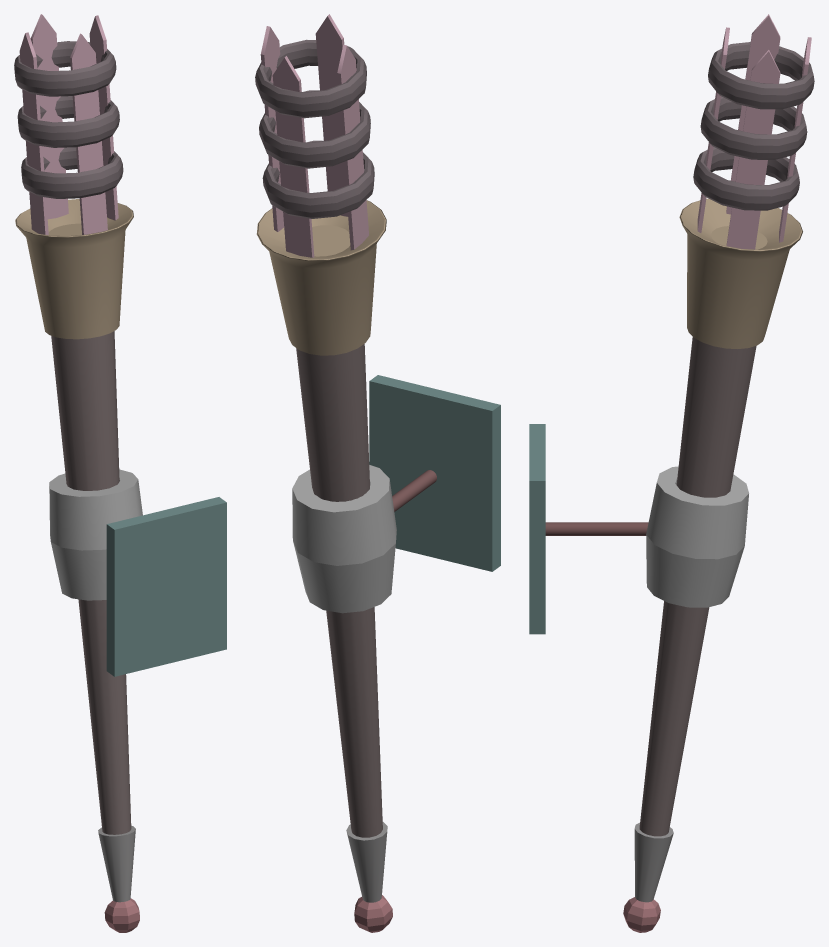
File: TorchUVFBX.fbx
The picture shows the model from 3 angles, left to right: view 1: azimuth 30°, elevation 25°; view 2: azimuth 150°, elevation 25°; view 3: azimuth 270°, elevation 25°; orthographic projection. The views are drawn at different scales.
Parts seen in each view (by area): view 1: pCube5, pCylinder1, pCylinder4, pTorus4, pTorus1, pTorus2, pTorus3, pCube1, pCube2, pCube3, pCylinder3, pCube4 (+1 smaller); view 2: pCube5, pCylinder1, pCylinder4, pTorus4, pTorus1, pTorus2, pTorus3, pCube2, pCube1, pCube3, pCylinder3, pCube4 (+2 smaller); view 3: pCylinder1, pCylinder4, pTorus4, pTorus1, pTorus3, pTorus2, pCube5, pCube4, pCylinder3, pCube3, pCylinder5, pSphere1 (+2 smaller).
Boxes of the visible parts, left/top/right/bottom form: pCube5: left=106, top=497, right=226, bottom=676; pCylinder1: left=51, top=331, right=131, bottom=834; pCylinder4: left=15, top=199, right=133, bottom=339; pTorus4: left=49, top=469, right=142, bottom=600; pTorus1: left=14, top=41, right=116, bottom=96; pTorus2: left=17, top=96, right=119, bottom=147; pTorus3: left=21, top=147, right=123, bottom=198; pCube1: left=70, top=33, right=107, bottom=234; pCube2: left=30, top=14, right=68, bottom=219; pCube3: left=19, top=32, right=48, bottom=235; pCylinder3: left=98, top=825, right=135, bottom=902; pCube4: left=89, top=15, right=118, bottom=220; pCube5: left=369, top=375, right=500, bottom=571; pCylinder1: left=296, top=344, right=382, bottom=837; pCylinder4: left=256, top=200, right=386, bottom=355; pTorus4: left=292, top=465, right=396, bottom=613; pTorus1: left=255, top=39, right=366, bottom=118; pTorus2: left=259, top=90, right=370, bottom=168; pTorus3: left=262, top=140, right=374, bottom=218; pCube2: left=272, top=56, right=314, bottom=257; pCube1: left=315, top=14, right=348, bottom=216; pCube3: left=337, top=44, right=368, bottom=250; pCylinder3: left=346, top=822, right=387, bottom=902; pCube4: left=260, top=26, right=284, bottom=231; pCylinder1: left=639, top=337, right=756, bottom=836; pCylinder4: left=679, top=198, right=802, bottom=348; pTorus4: left=646, top=466, right=748, bottom=607; pTorus1: left=708, top=42, right=814, bottom=109; pTorus3: left=693, top=147, right=799, bottom=210; pTorus2: left=700, top=96, right=807, bottom=159; pCube5: left=529, top=424, right=545, bottom=634; pCube4: left=726, top=50, right=780, bottom=249; pCylinder3: left=634, top=822, right=673, bottom=902; pCube3: left=726, top=14, right=780, bottom=214; pCylinder5: left=545, top=522, right=648, bottom=535; pSphere1: left=623, top=897, right=660, bottom=932.
Bounding box in the file's own units: 1.64 × 11.95 × 3.42.
